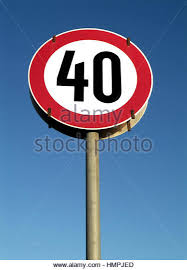Speed_limit_40km: (27, 27, 153, 128)
